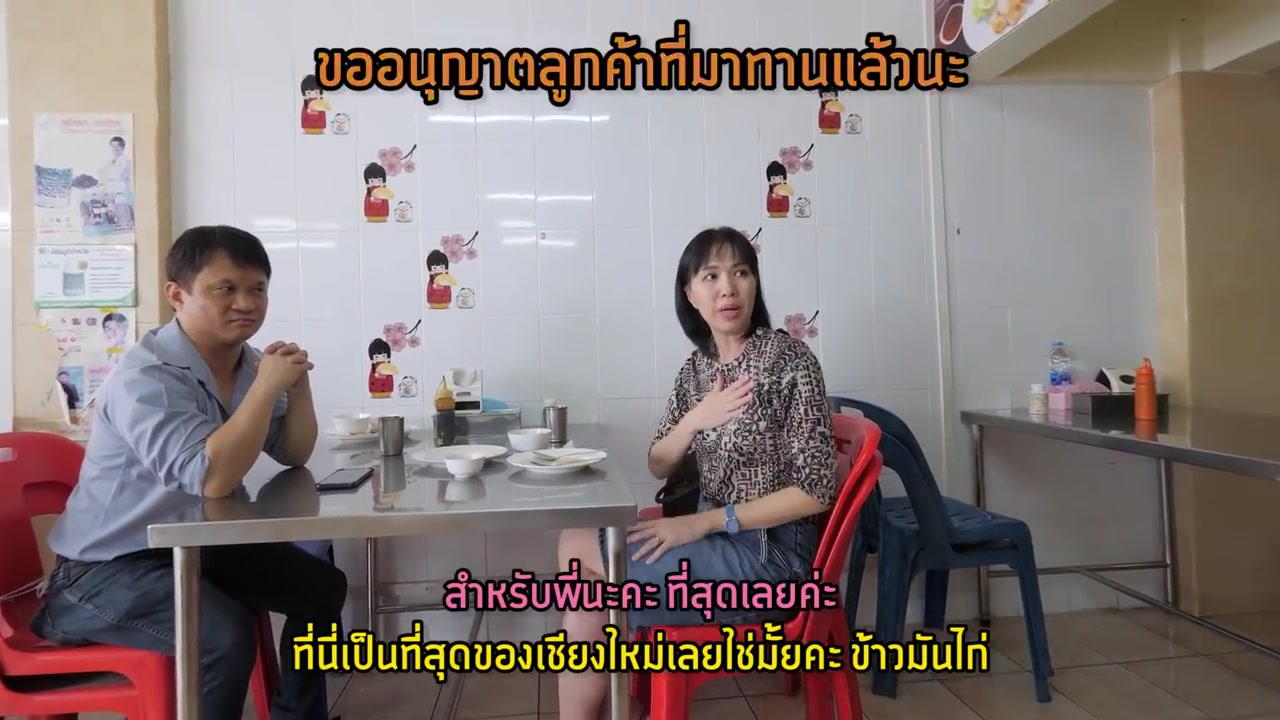text-label: (309, 19, 973, 107), (290, 619, 995, 682), (442, 556, 844, 622)
